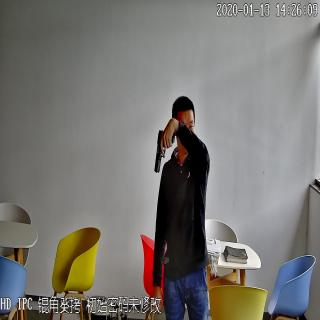gun: (150, 123, 177, 175)
